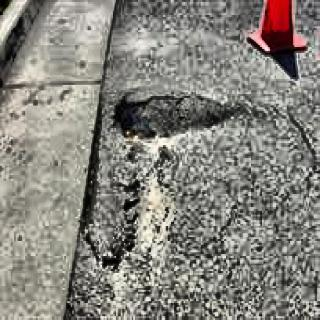pothole: (117, 87, 166, 138)
